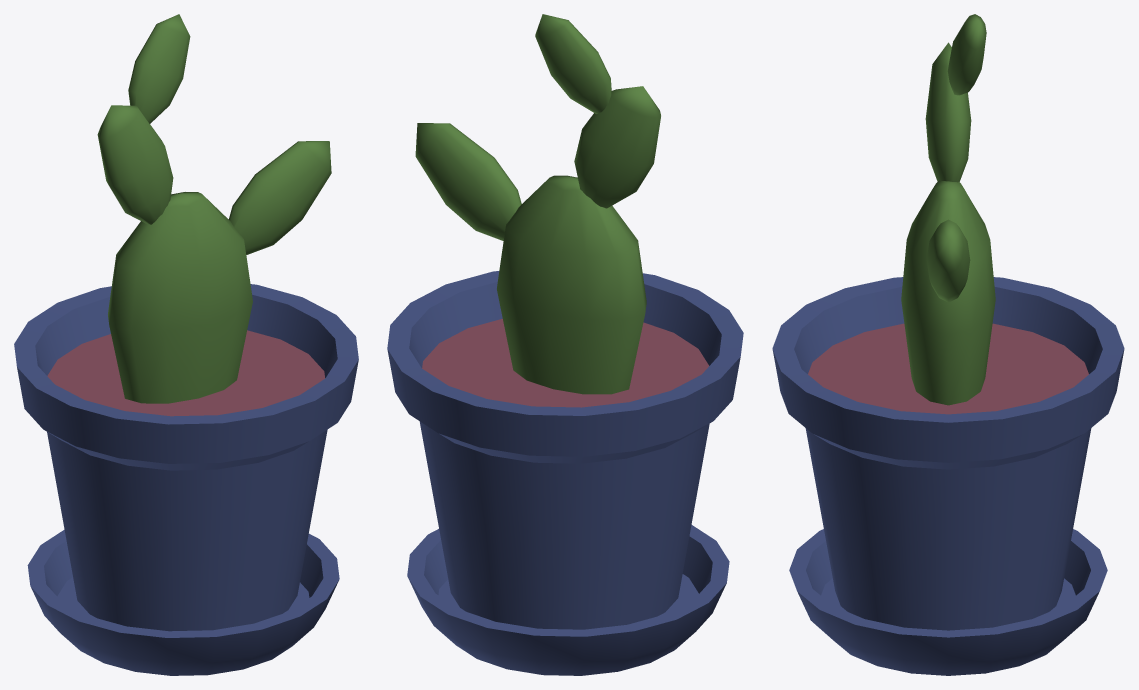
The model's file is kaktus.fbx.
3 renders of one model, left to right at view 1: azimuth 30°, elevation 25°; view 2: azimuth 150°, elevation 25°; view 3: azimuth 270°, elevation 25°, orthographic. The views are drawn at different scales.
Parts seen in each view (by area): view 1: kaktus4; view 2: kaktus4; view 3: kaktus4.
Boxes of the visible parts, x1=… form: kaktus4: x1=14, y1=14, x2=358, y2=675; kaktus4: x1=387, y1=14, x2=743, y2=675; kaktus4: x1=772, y1=14, x2=1124, y2=675.
Size of the model in its own units: 0.3494 by 0.6658 by 0.3494.
